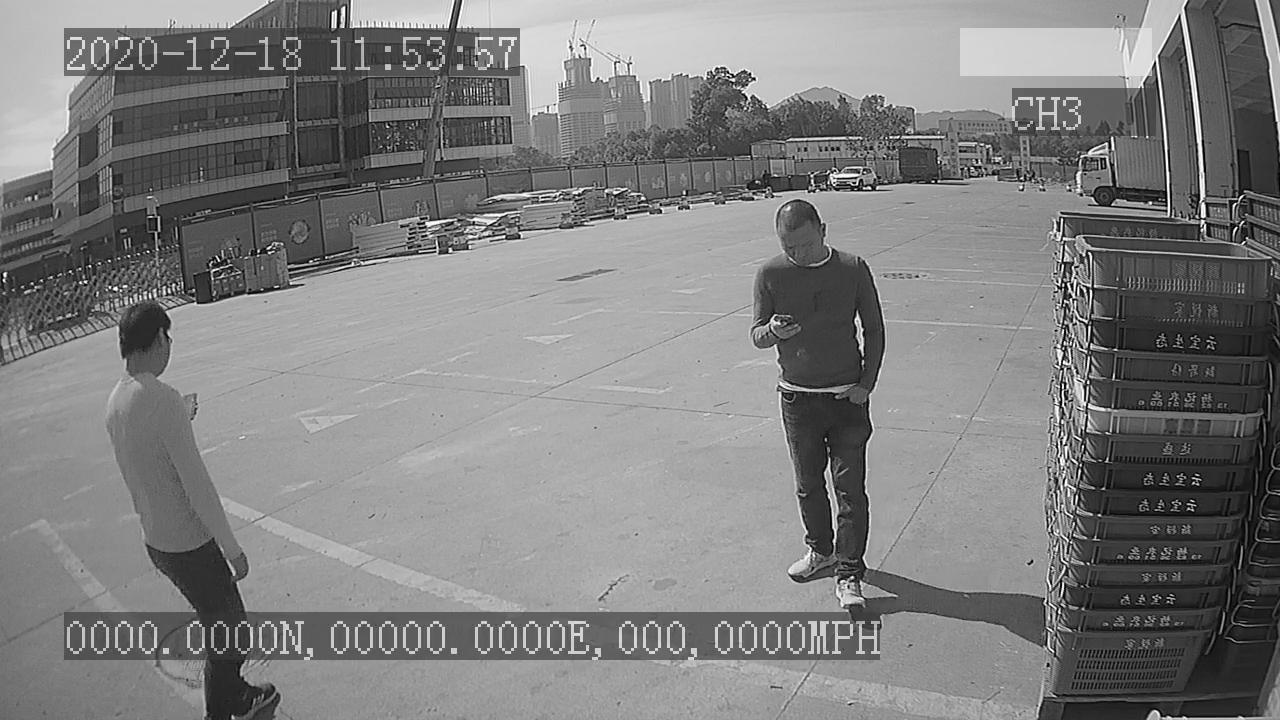person: (745, 194, 895, 610)
